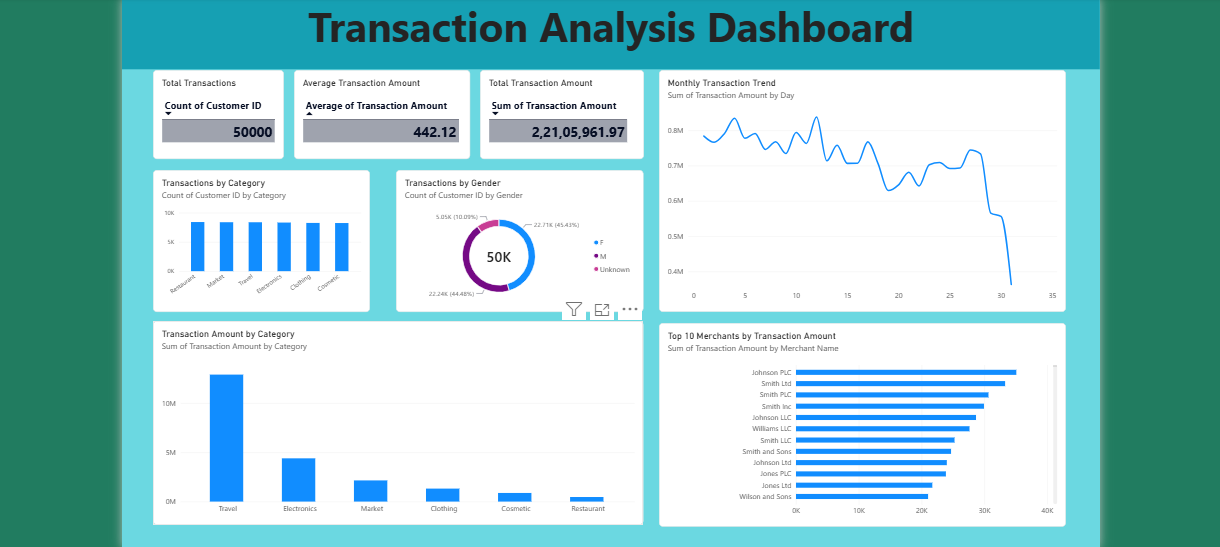

The dashboard page shown, as its layout file describes it:
{"tool":"powerbi","page":{"name":"KPI","canvas":[1920,1080],"ordinal":0},"visuals":[{"type":"tableEx","title":"Total Transactions","fields":{"Values":["CountNonNull(cleaned_data xlsx.Customer ID)"]},"box":[60.5,140.4,257,175],"z":0},{"type":"tableEx","title":"Total Transaction Amount","fields":{"Values":["Sum(cleaned_data xlsx.Transaction Amount)"]},"box":[702,140.4,321.8,175],"z":1000},{"type":"tableEx","title":"Average Transaction Amount","fields":{"Values":["Avg(cleaned_data xlsx.Transaction Amount)"]},"box":[337,140.4,345.6,175],"z":2000},{"type":"clusteredColumnChart","title":"Transactions by Category","fields":{"Category":["cleaned_data xlsx.Category"],"Y":["CountNonNull(cleaned_data xlsx.Customer ID)"]},"box":[60.5,337,425.5,278.6],"z":3000},{"type":"lineChart","title":"Monthly Transaction Trend","fields":{"Category":["cleaned_data xlsx.Date.Variation.Date Hierarchy.Year","cleaned_data xlsx.Date.Variation.Date Hierarchy.Quarter","cleaned_data xlsx.Date.Variation.Date Hierarchy.Month","cleaned_data xlsx.Date.Variation.Date Hierarchy.Day"],"Y":["Sum(cleaned_data xlsx.Transaction Amount)"]},"box":[1054.1,140.4,799.2,475.2],"z":4000},{"type":"donutChart","title":"Transactions by Gender","fields":{"Category":["cleaned_data xlsx.Gender"],"Y":["CountNonNull(cleaned_data xlsx.Customer ID)"]},"box":[537.8,337,486,278.6],"z":4001},{"type":"clusteredColumnChart","title":"Transaction Amount by Category","fields":{"Category":["cleaned_data xlsx.Category"],"Y":["Sum(cleaned_data xlsx.Transaction Amount)"]},"box":[60.5,635,963.4,399.6],"z":4002},{"type":"clusteredBarChart","title":"Top 10 Merchants by Transaction Amount","fields":{"Category":["cleaned_data xlsx.Merchant Name"],"Y":["Sum(cleaned_data xlsx.Transaction Amount)"]},"box":[1054.1,637.2,799.2,399.6],"z":4003},{"type":"textbox","box":[12,900,400,48],"z":4004},{"type":"textbox","box":[60.5,0,1792.8,140.4],"z":4005}]}

Visuals, with their boxes on the page's 1920x1080 design canvas (x1, y1, x2, y2). These are canvas units, not pixel positions in the 1220x547 screenshot, which may show the page scaled, cropped or inside an application window:
"Total Transactions" tableEx: rect(60, 140, 318, 315)
"Total Transaction Amount" tableEx: rect(702, 140, 1024, 315)
"Average Transaction Amount" tableEx: rect(337, 140, 683, 315)
"Transactions by Category" clusteredColumnChart: rect(60, 337, 486, 616)
"Monthly Transaction Trend" lineChart: rect(1054, 140, 1853, 616)
"Transactions by Gender" donutChart: rect(538, 337, 1024, 616)
"Transaction Amount by Category" clusteredColumnChart: rect(60, 635, 1024, 1035)
"Top 10 Merchants by Transaction Amount" clusteredBarChart: rect(1054, 637, 1853, 1037)
textbox: rect(12, 900, 412, 948)
textbox: rect(60, 0, 1853, 140)
